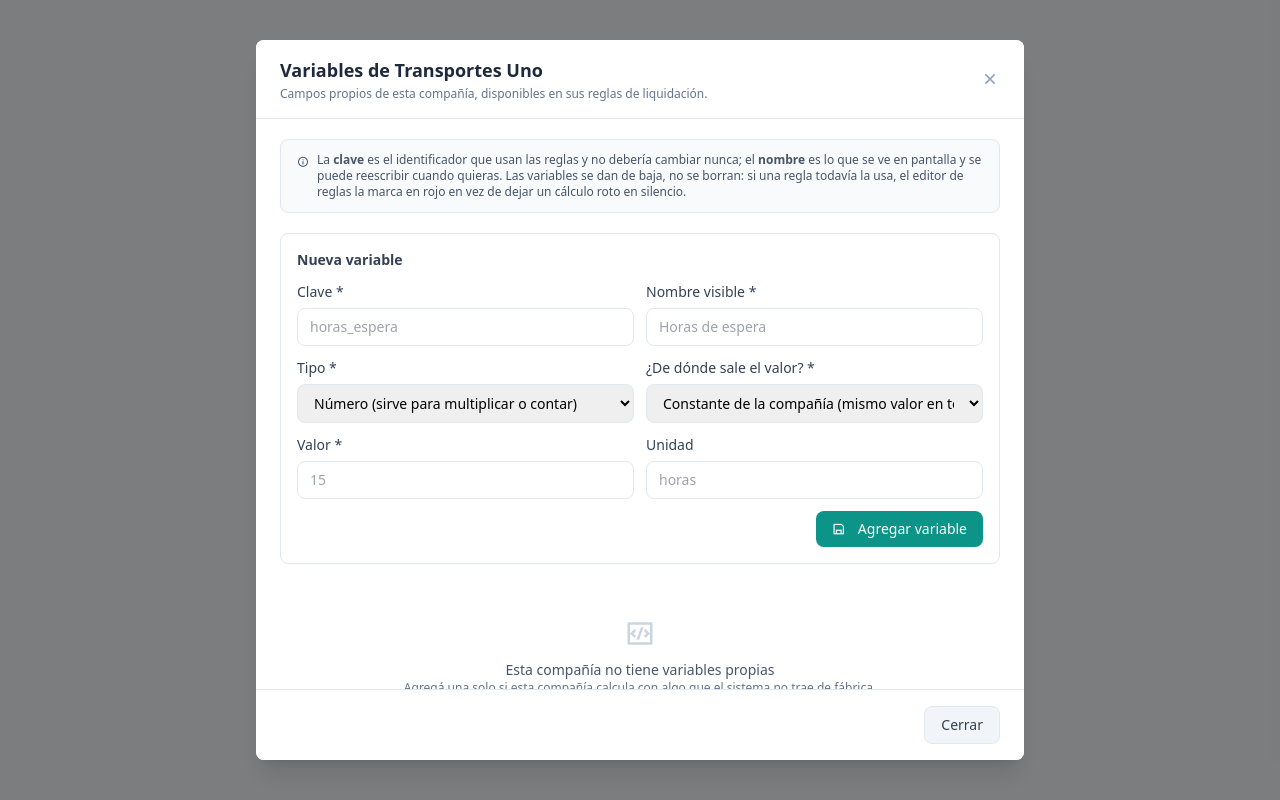
Test case: VariablesModal (caracterización) › con el formulario vacío no agrega nada y marca errores en los campos
The width and height of the screenshot is (1280, 800).
Expected: the text "Esta compañía no tiene variables propias" is shown, [506,660,775,679]
Click the button "Agregar variable" at (899, 529), box [816,511,983,547]
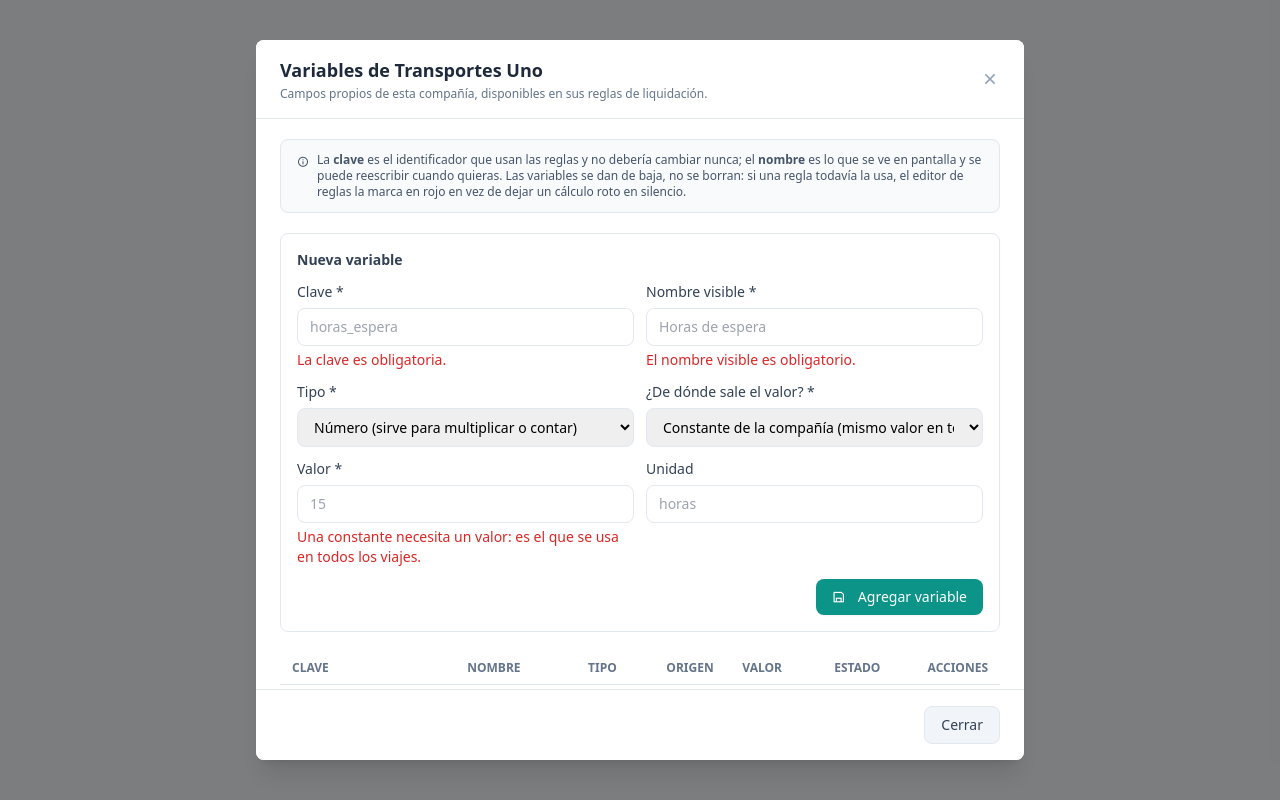
Expected: the heading "Nueva variable" is shown, [297,250,402,269]
Expected: the text "La clave es obligatoria." is shown, [297,350,446,369]
Expected: the text "Horas de espera" is shown, [455,684,576,742]
